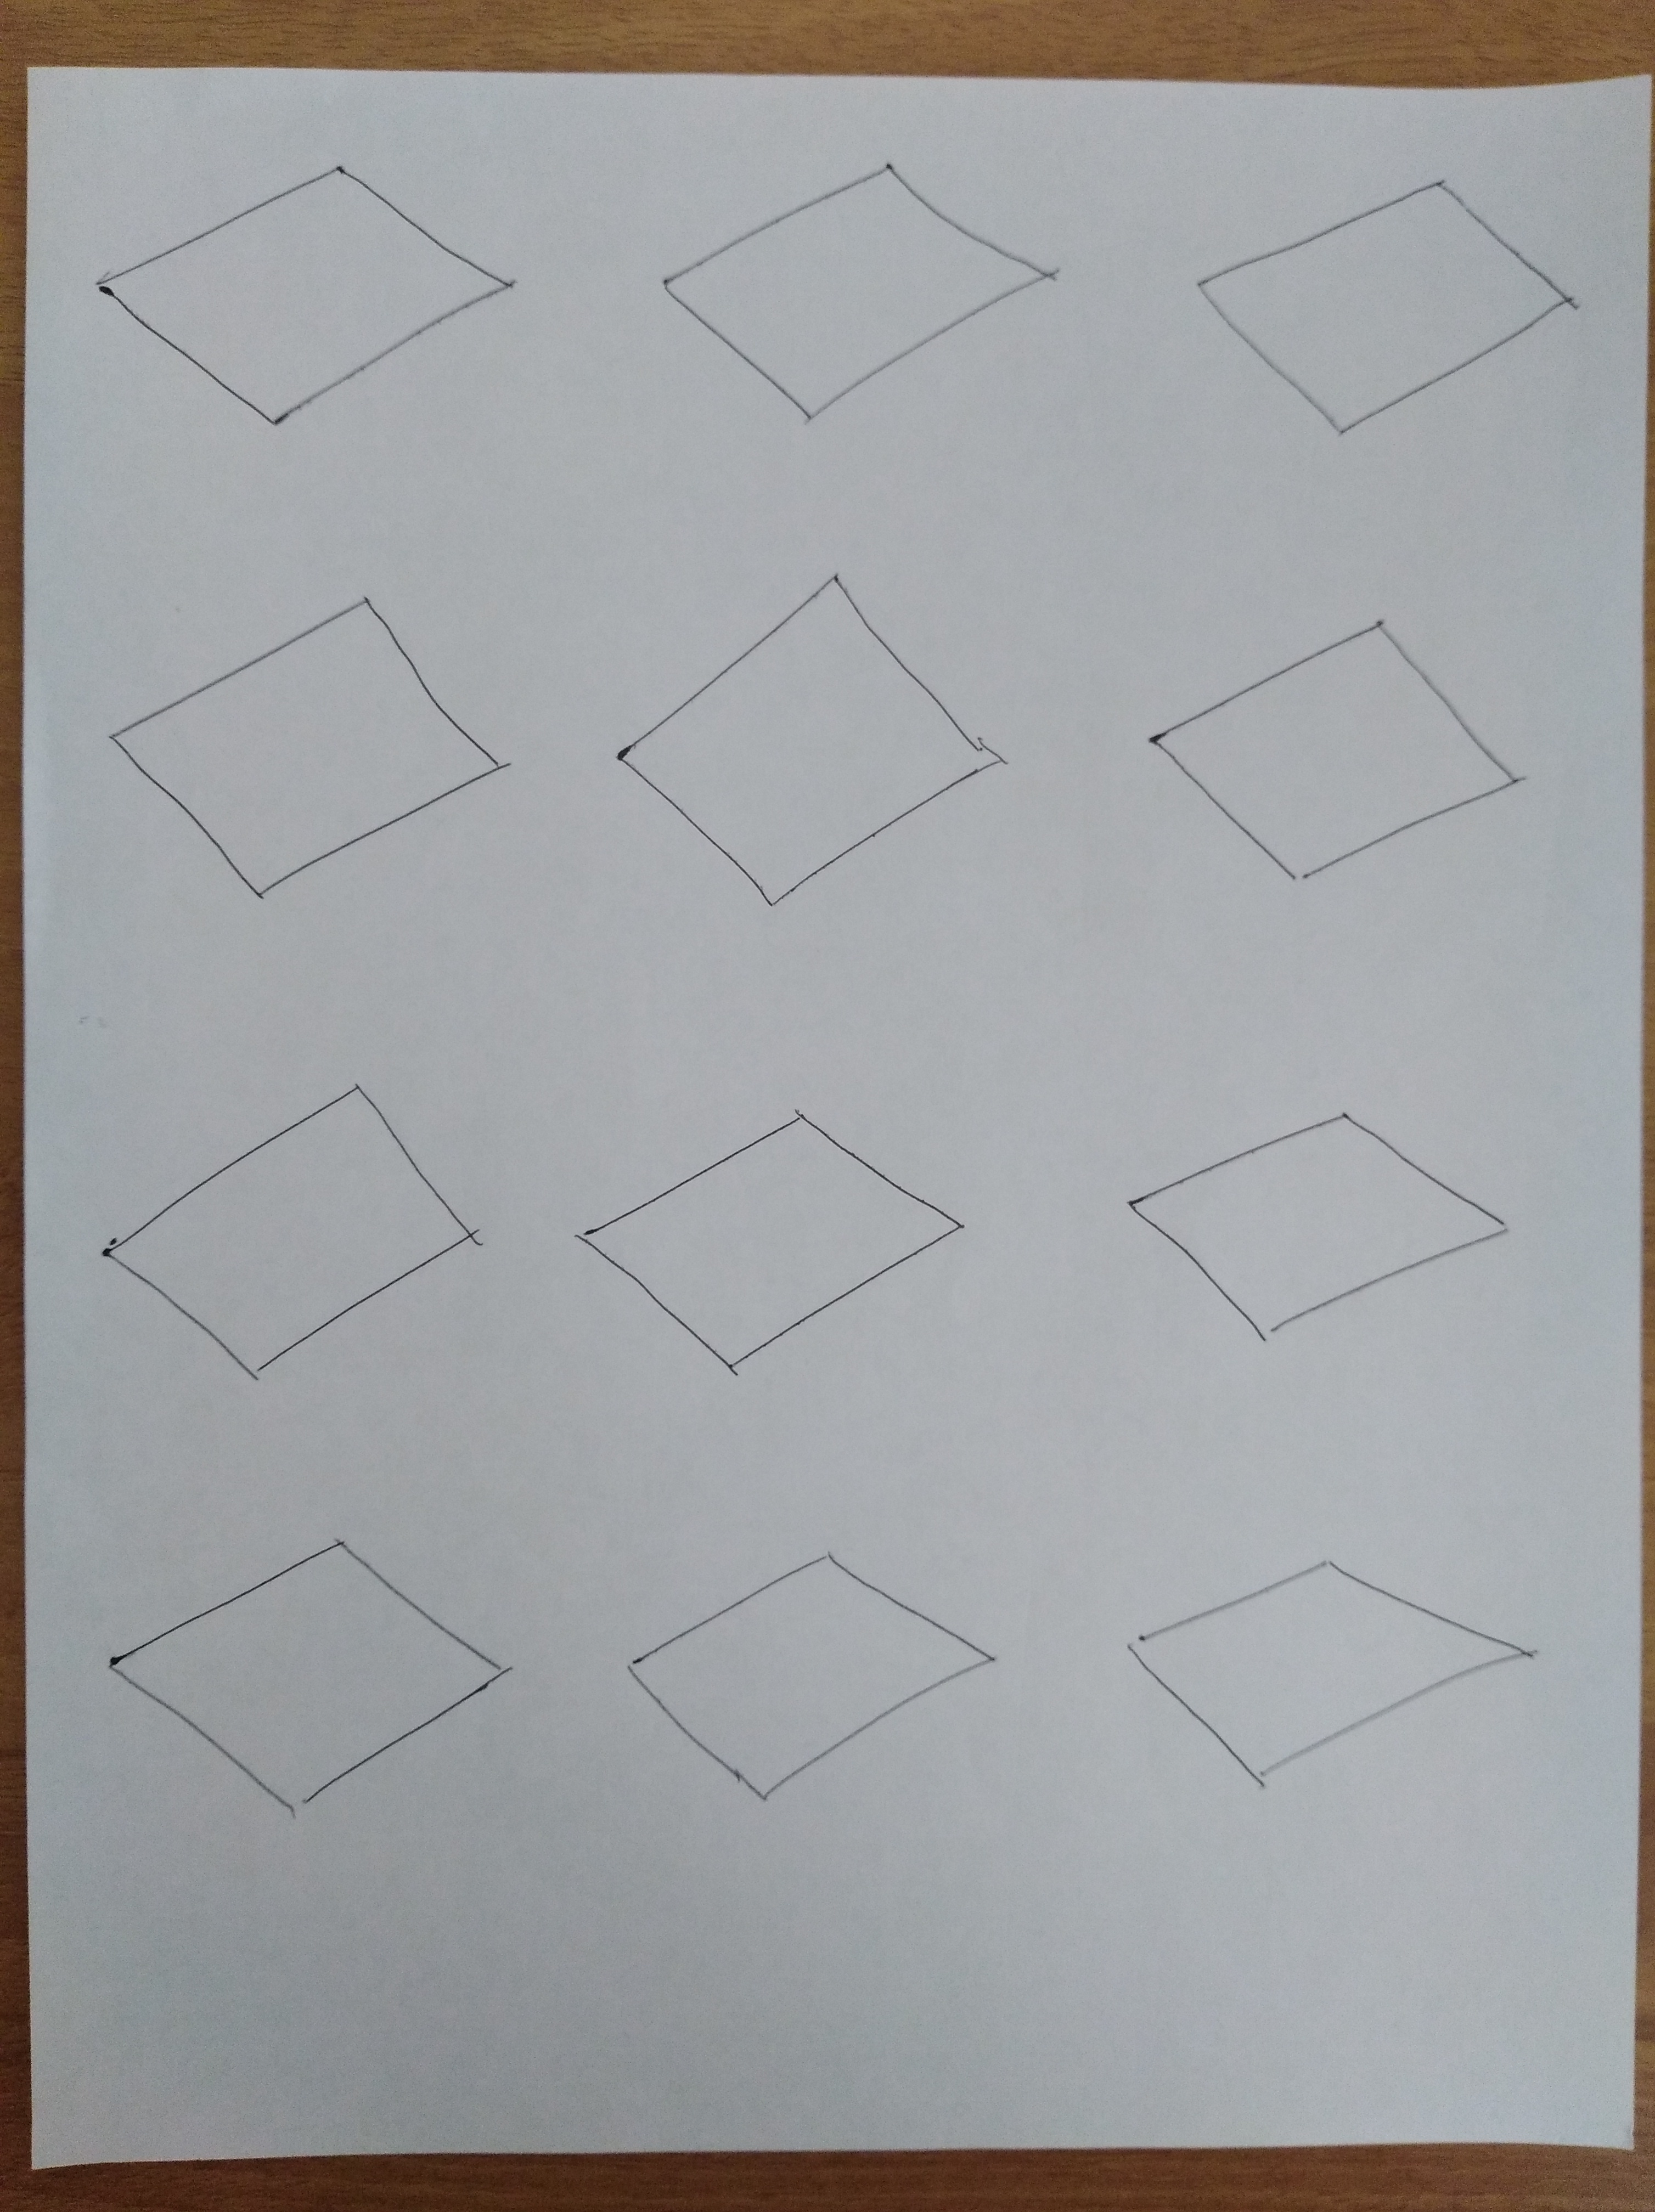decision: (59, 113, 553, 454), (1104, 566, 1559, 935), (68, 1034, 516, 1407), (586, 549, 1020, 930), (85, 566, 539, 924), (553, 1036, 986, 1407), (1097, 1037, 1539, 1381), (82, 1512, 539, 1844), (626, 120, 1088, 445), (1100, 1512, 1559, 1830), (1170, 132, 1601, 462), (610, 1505, 1017, 1825)
